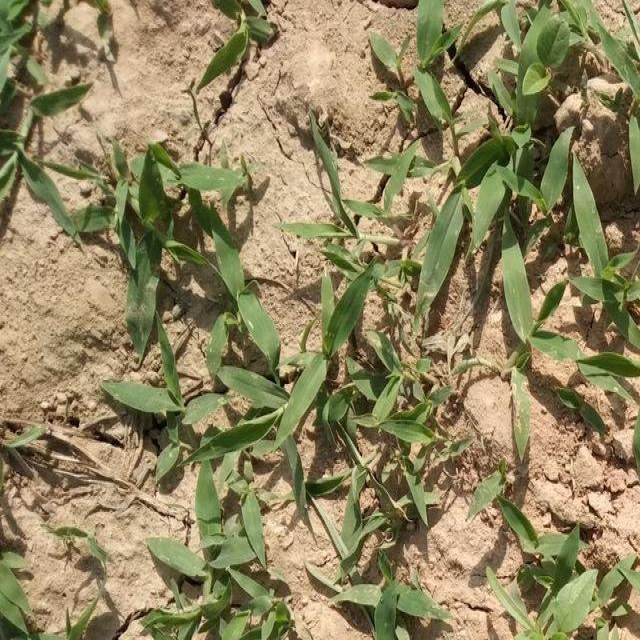weed: (458, 0, 636, 257), (250, 274, 456, 488), (136, 82, 274, 257), (516, 477, 640, 640), (2, 10, 86, 225), (15, 476, 123, 638), (337, 81, 438, 249), (190, 486, 282, 640), (144, 286, 242, 402), (350, 531, 446, 640)
